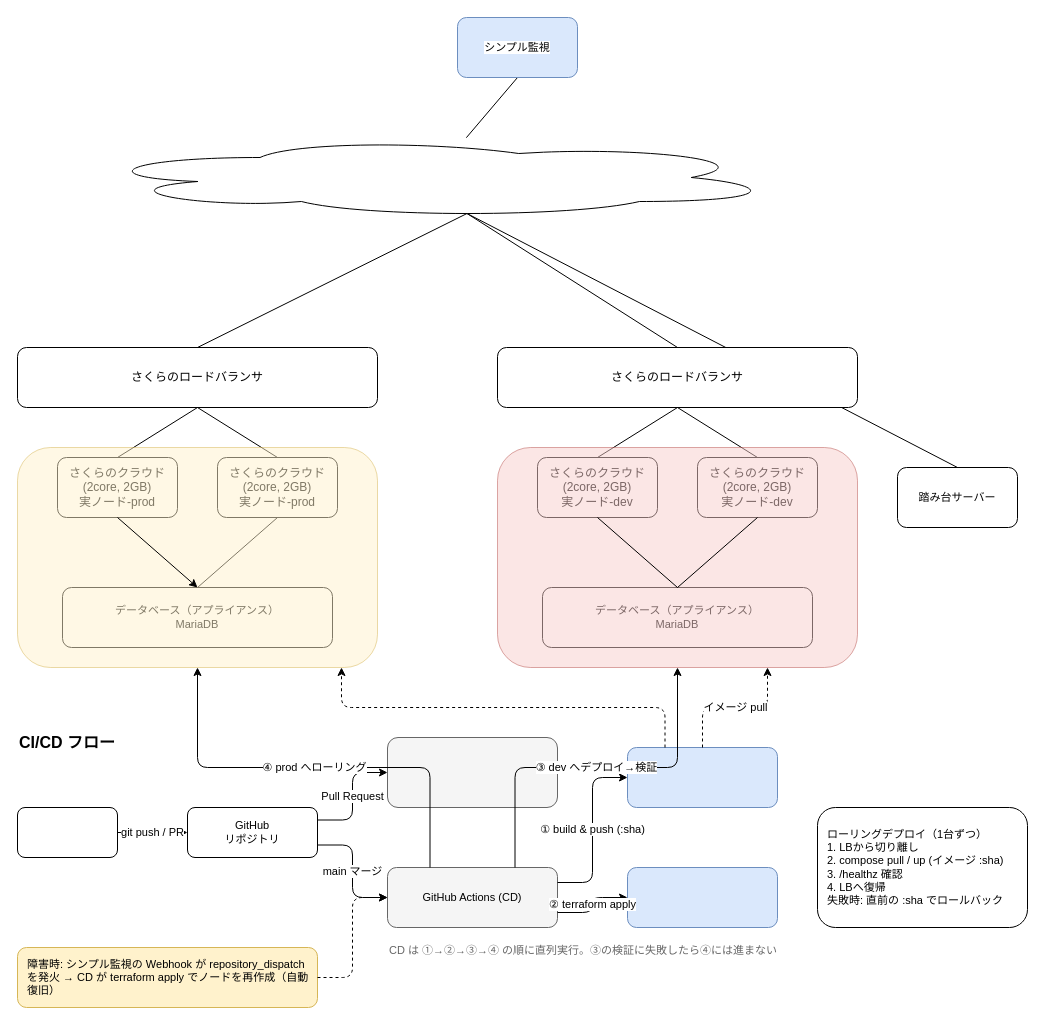
The diagram is 1045 pixels wide and 1025 high, and some of its shapes have lost their labels. The shapes that lost their labels are listed below. From the top down, each one's centre as x and y in pixels, then its label:
At point (432, 177): "The Internet".
At point (472, 772): "GitHub Actions (CI) go vet / test / build terraform plan".
At point (702, 777): "さくらの コンテナレジストリ".
At point (67, 832): "開発者".
At point (702, 897): "オブジェクトストレージ (tfstate)".
